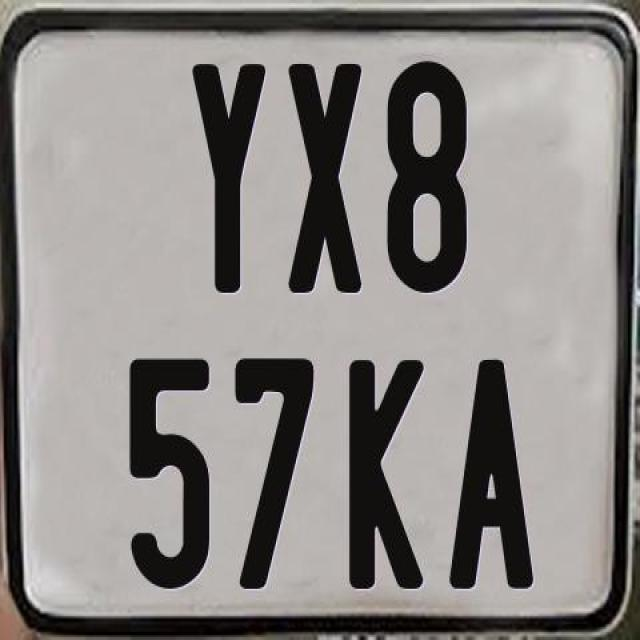5: (128, 357, 209, 589)
7: (233, 357, 316, 590)
8: (386, 61, 470, 296)
A: (447, 358, 532, 588)
K: (346, 360, 424, 597)
X: (286, 64, 366, 301)
Y: (190, 64, 266, 302)
